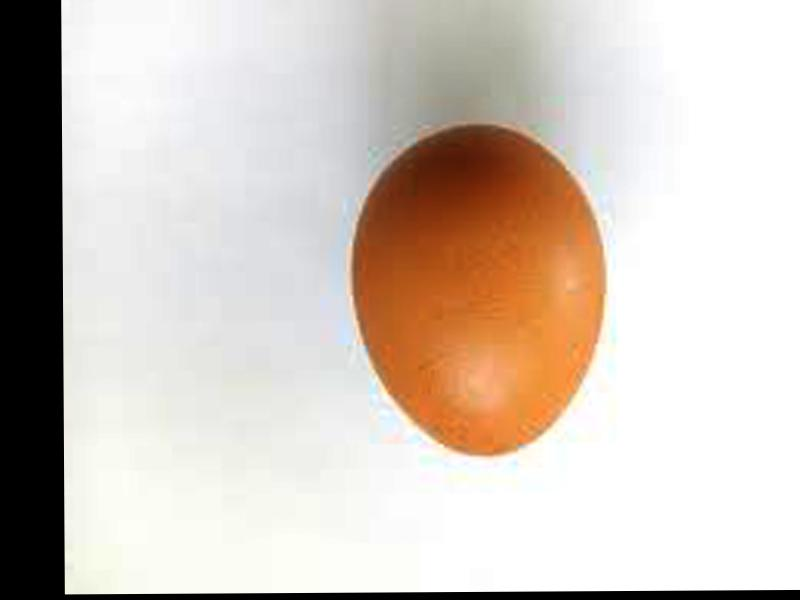Eggs: (348, 120, 604, 462)
